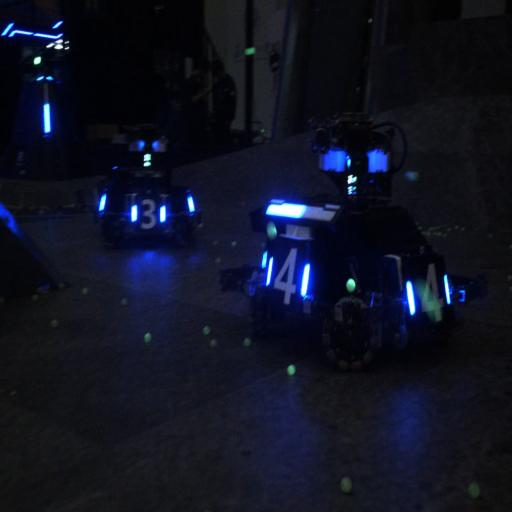target: (390, 246, 454, 330), (262, 232, 313, 315), (128, 193, 170, 235)
